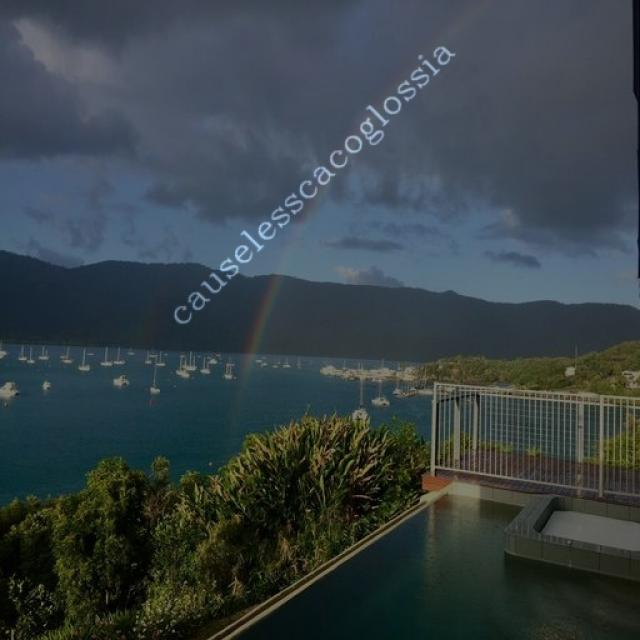watermark: (172, 24, 456, 333)
